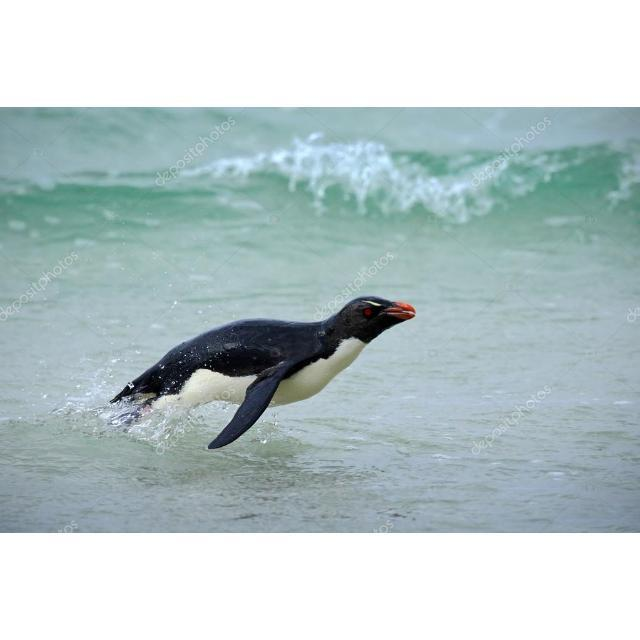penguin: (108, 294, 418, 452)
